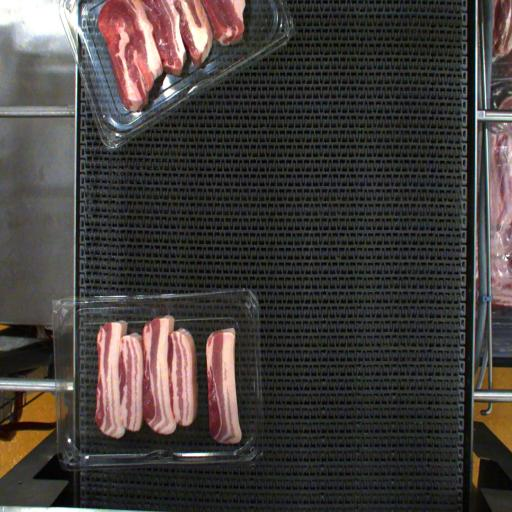loose-meat: (201, 328, 253, 448)
